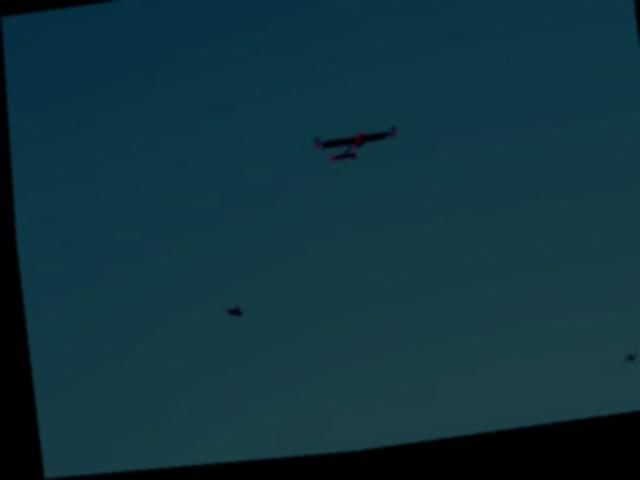uav: (303, 117, 406, 179)
